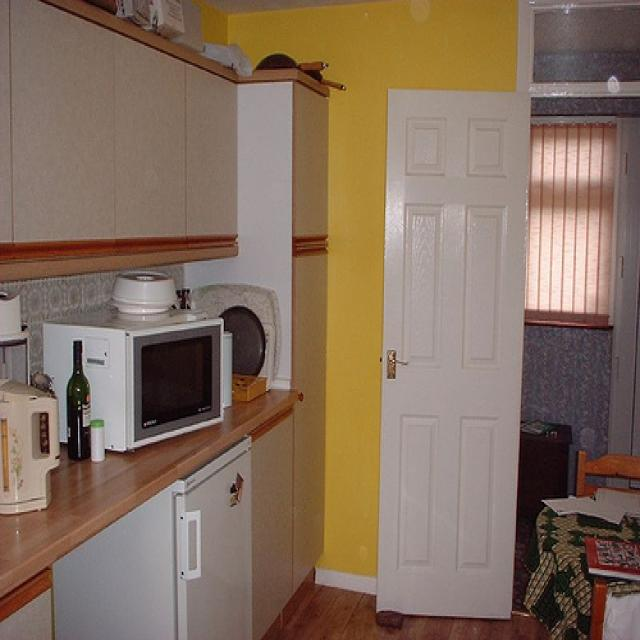bottle: (65, 336, 94, 464)
